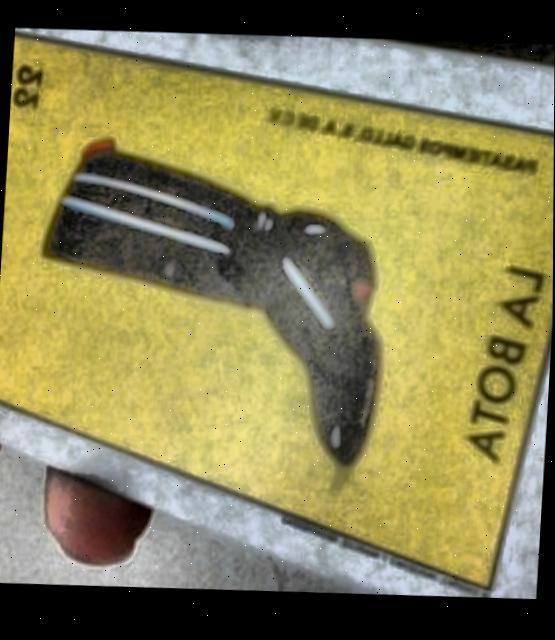La Bota: (0, 34, 554, 595)
